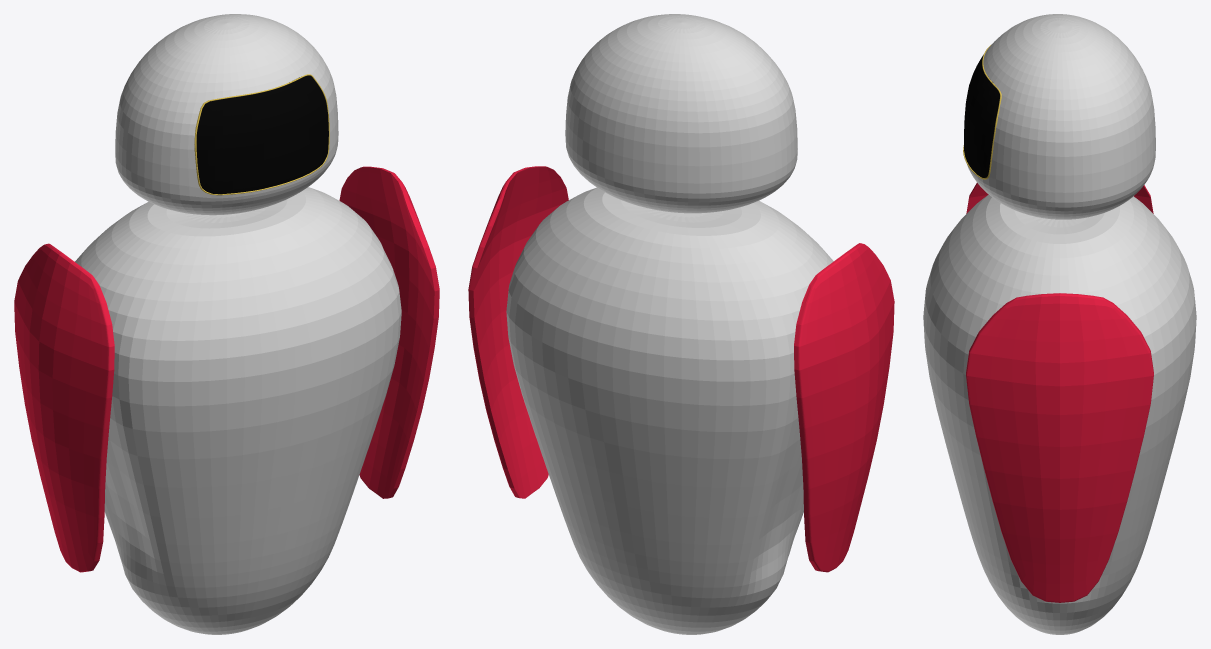
Rendered from Everard_Heal.fbx.
3 views of the same model, side by side, from view 1: azimuth 30°, elevation 25°; view 2: azimuth 150°, elevation 25°; view 3: azimuth 270°, elevation 25° (orthographic).
Parts seen in each view (by area): view 1: Body, Head, Arm_Right, Arm_Left, Head_rim; view 2: Body, Head, Arm_Right, Arm_Left; view 3: Body, Arm_Left, Head, Arm_Right.
Part boxes in pixels (left/top/right/bottom): Body: left=75, top=187, right=401, bottom=634; Head: left=115, top=14, right=338, bottom=215; Arm_Right: left=14, top=243, right=114, bottom=572; Arm_Left: left=339, top=166, right=439, bottom=498; Head_rim: left=194, top=74, right=329, bottom=195; Body: left=506, top=187, right=833, bottom=634; Head: left=565, top=14, right=797, bottom=213; Arm_Right: left=794, top=243, right=894, bottom=572; Arm_Left: left=468, top=166, right=568, bottom=498; Body: left=923, top=194, right=1196, bottom=634; Arm_Left: left=966, top=293, right=1153, bottom=602; Head: left=964, top=14, right=1155, bottom=219; Arm_Right: left=966, top=183, right=1153, bottom=213.
Size of the model in its own units: 194 by 298 by 123.
